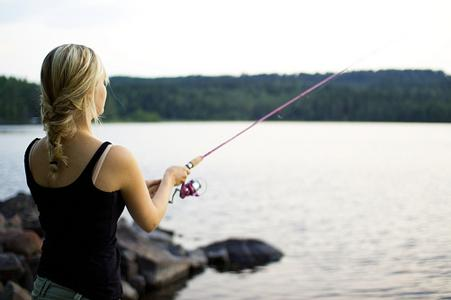person: (23, 43, 189, 300)
